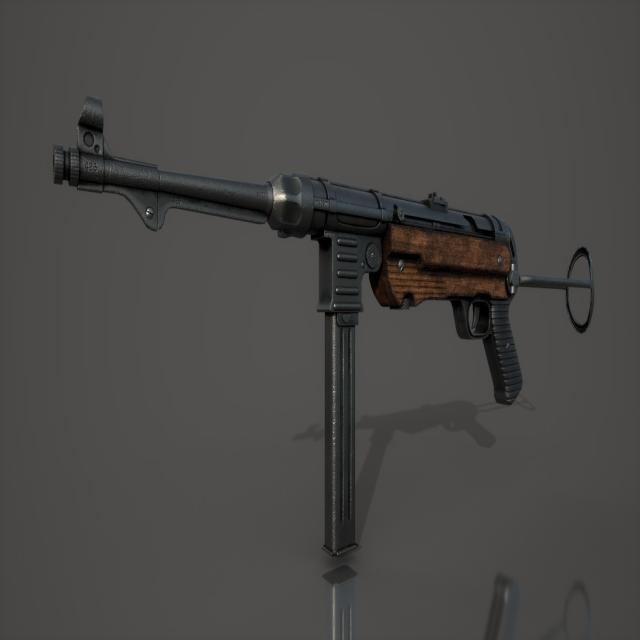SMG: (52, 97, 596, 559)
